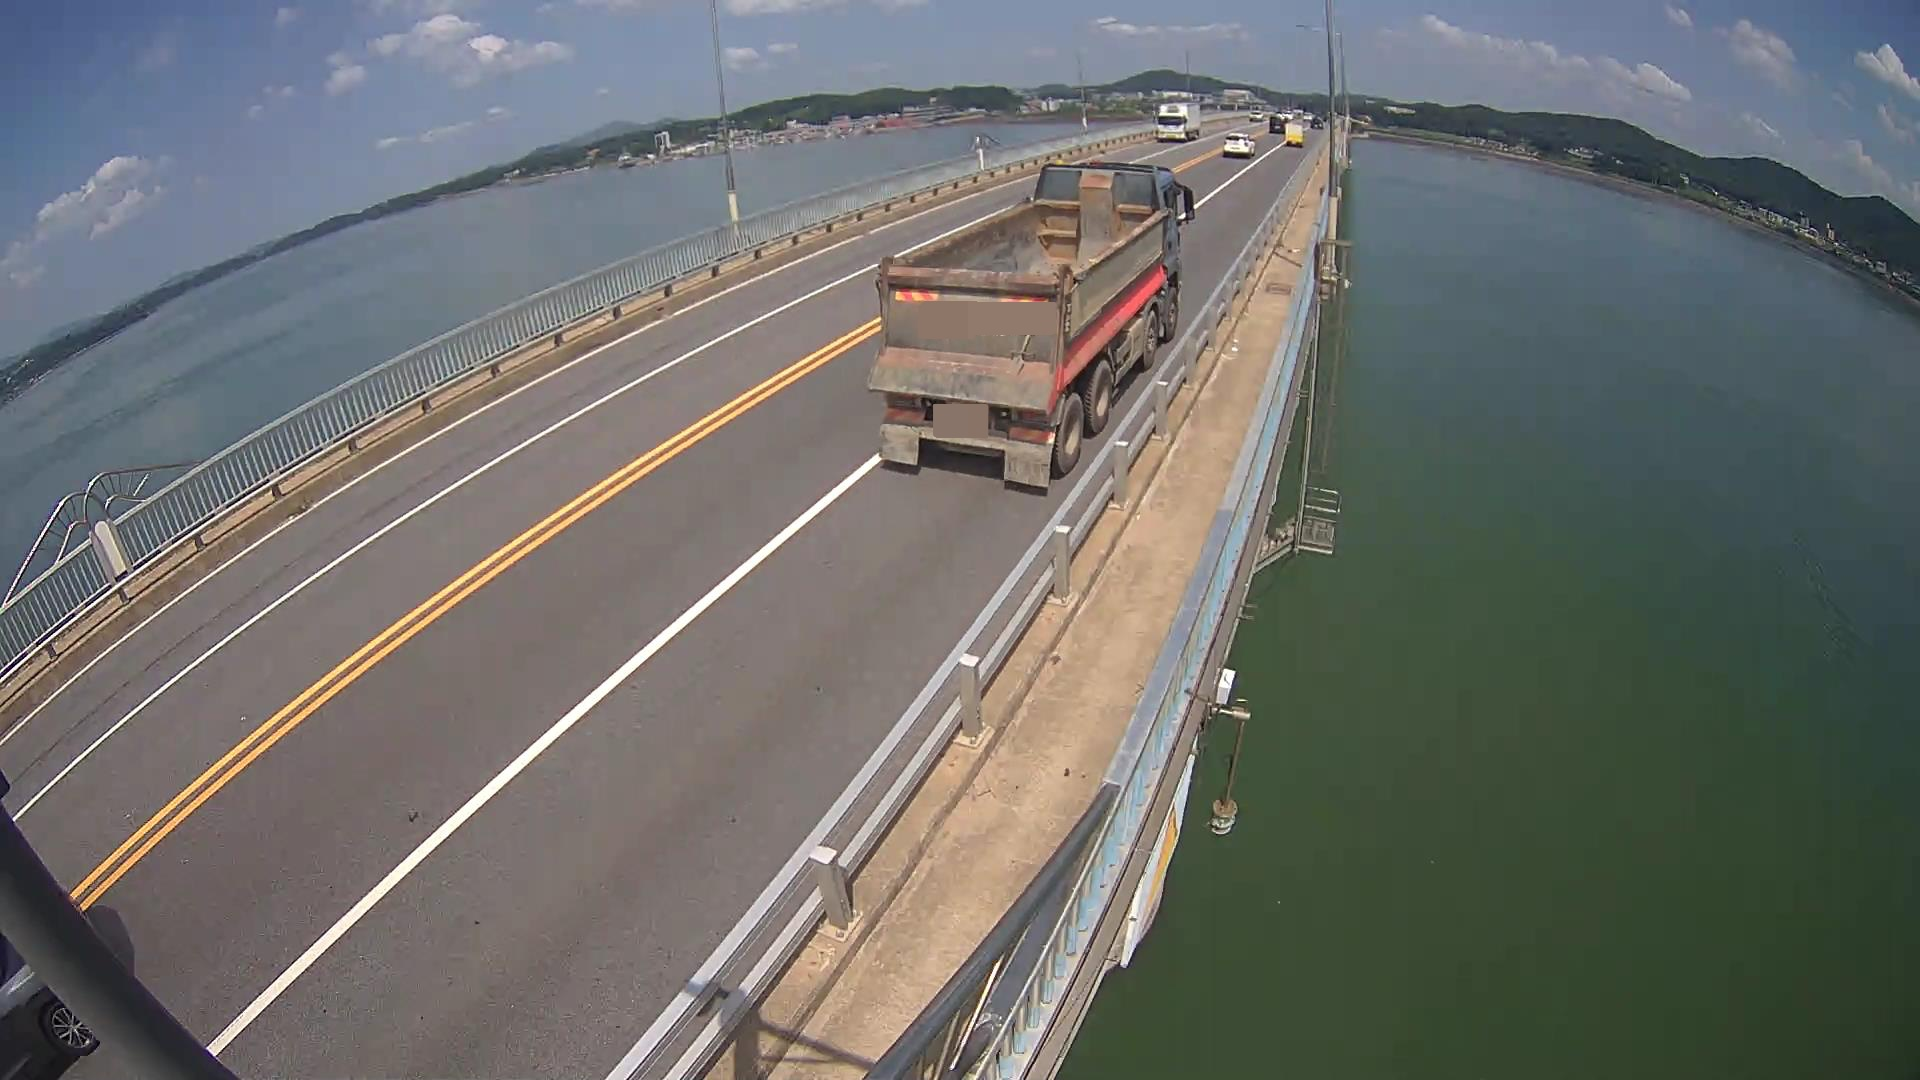정상차량: (866, 160, 1196, 488)
